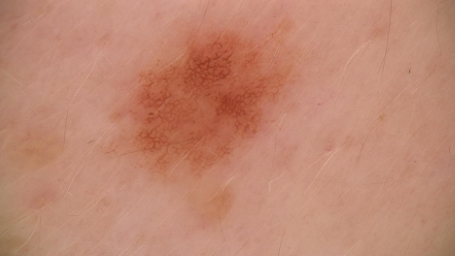melanoma: (141, 45, 267, 173)
